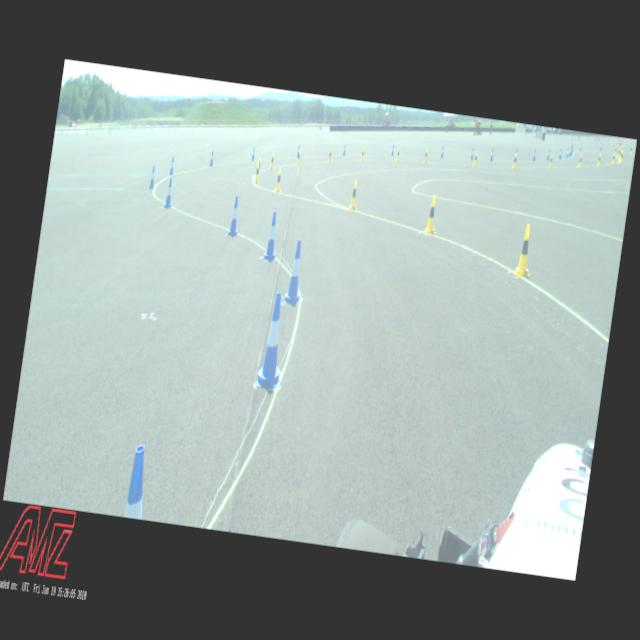blue_cone: (256, 291, 292, 388), (125, 446, 152, 519), (284, 239, 308, 305), (263, 210, 281, 262), (228, 195, 244, 237), (164, 178, 175, 209), (148, 166, 156, 189), (170, 157, 176, 175), (209, 151, 215, 167), (251, 147, 256, 160), (489, 149, 494, 161), (514, 148, 518, 162), (296, 145, 300, 158), (440, 146, 444, 158), (343, 144, 347, 156), (532, 150, 536, 162), (470, 148, 474, 160), (546, 150, 550, 160), (559, 148, 562, 160), (566, 148, 569, 158), (570, 147, 572, 156), (600, 143, 602, 151), (630, 144, 632, 152), (580, 143, 582, 150)
yellow_cone: (513, 222, 535, 278), (425, 194, 441, 234), (349, 179, 360, 210), (274, 168, 284, 192), (254, 162, 262, 184), (270, 153, 276, 170), (258, 157, 262, 175), (396, 148, 401, 161), (298, 150, 302, 166), (578, 154, 582, 168), (328, 149, 332, 163), (549, 154, 553, 168), (474, 152, 478, 166), (513, 154, 517, 168), (361, 148, 365, 161), (598, 153, 602, 166), (424, 149, 428, 162), (612, 152, 616, 164), (619, 149, 623, 160), (620, 152, 624, 162), (614, 146, 617, 154), (618, 148, 620, 158), (630, 145, 632, 154)
